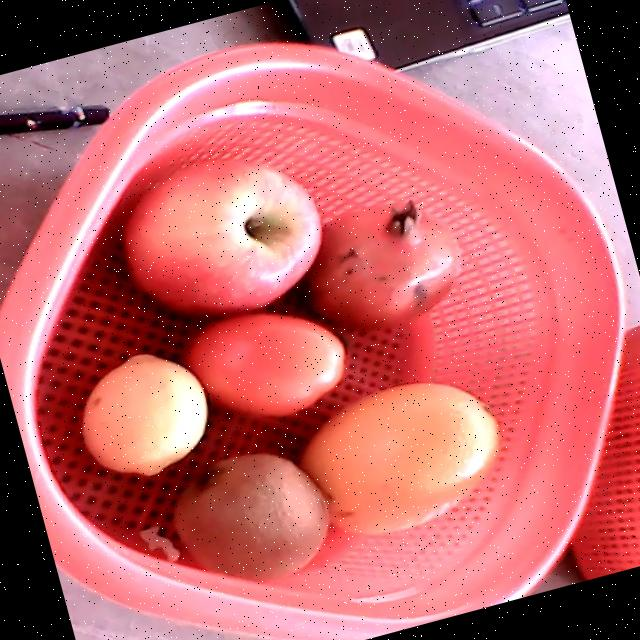apple: (120, 157, 321, 317)
kiwi: (169, 454, 326, 583)
lemon: (81, 353, 205, 476)
orange: (299, 381, 498, 535)
pomegranate: (304, 199, 458, 325)
tomato: (183, 314, 343, 415)
